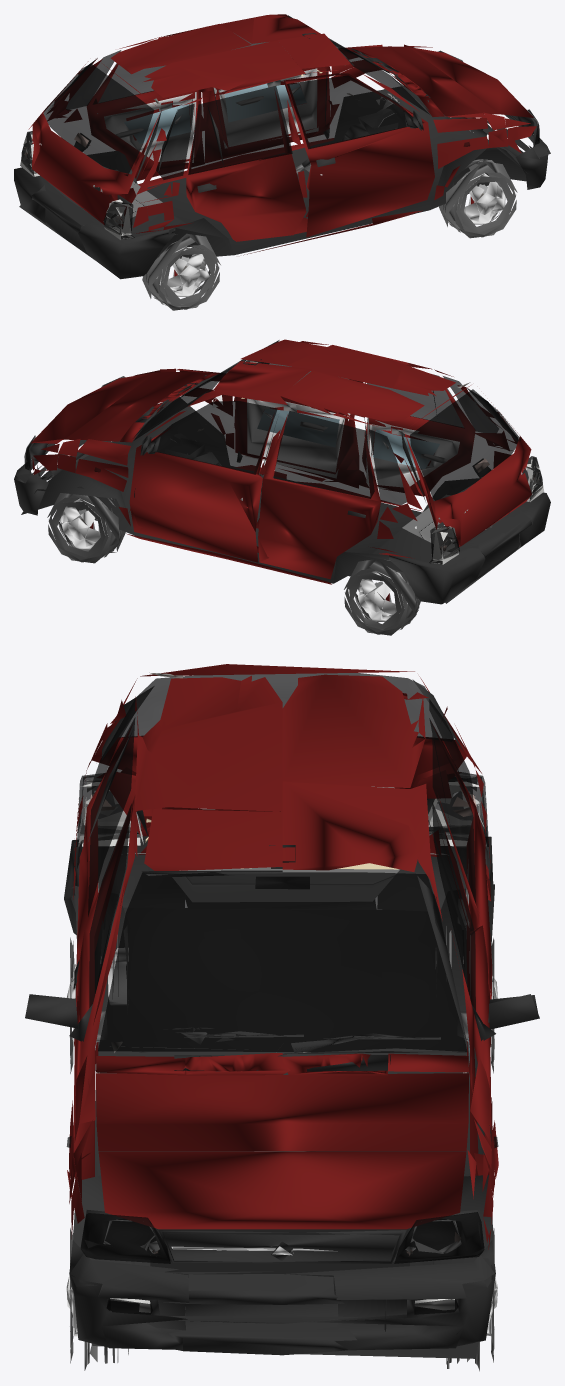
3 renders of one model, top to bottom at view 1: azimuth 30°, elevation 25°; view 2: azimuth 150°, elevation 25°; view 3: azimuth 270°, elevation 25°, orthographic. The views are drawn at different scales.
Visible parts, largest first — view 1: car_paint, car_detail, car_glass; view 2: car_paint, car_detail, car_glass; view 3: car_paint, car_detail, car_glass.
Part boxes in pixels (bbox=[...]): car_paint: bbox=[28, 14, 536, 276]; car_detail: bbox=[14, 15, 550, 310]; car_glass: bbox=[21, 16, 539, 239]; car_paint: bbox=[31, 339, 531, 601]; car_detail: bbox=[14, 340, 550, 635]; car_glass: bbox=[24, 359, 542, 564]; car_paint: bbox=[67, 664, 498, 1249]; car_detail: bbox=[25, 672, 539, 1371]; car_glass: bbox=[66, 673, 498, 1314].
Bounding box in the file's own units: 3.37 × 1.44 × 1.65.
